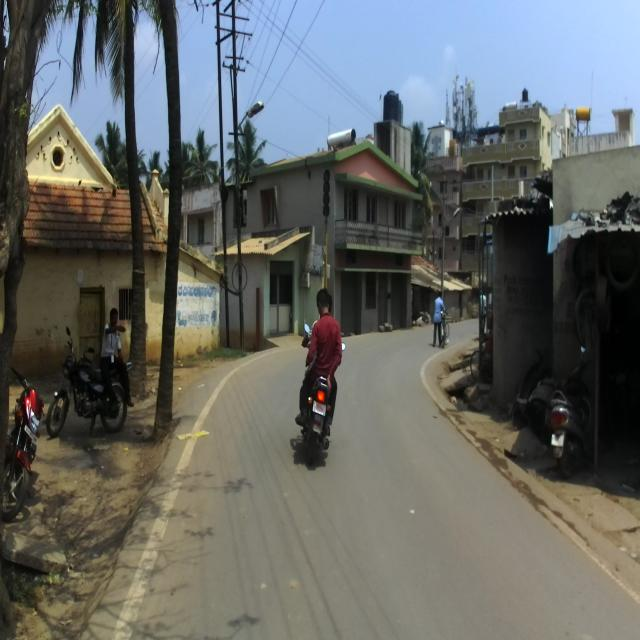motorcycle ahead at: (44, 352, 127, 446), (4, 364, 40, 511), (296, 365, 344, 472)
tree ahead at: (147, 0, 194, 444)
